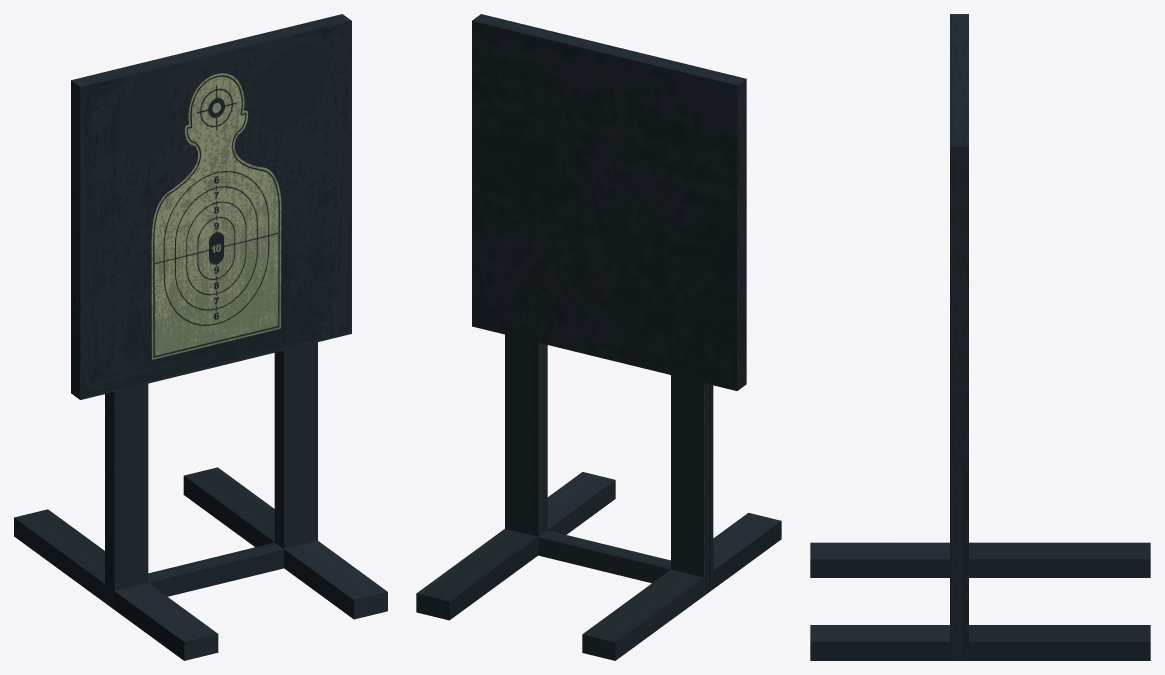
Rendered from hedef.fbx.
3 renders of one model, left to right at view 1: azimuth 30°, elevation 25°; view 2: azimuth 150°, elevation 25°; view 3: azimuth 270°, elevation 25°, orthographic. The views are drawn at different scales.
Visible parts, largest first — view 1: Cube; view 2: Cube; view 3: Cube.
Part boxes in pixels (x1,y1,x2,y2): Cube: (14,14,387,660); Cube: (416,14,781,660); Cube: (810,14,1150,660).
Size of the model in its own units: 873 by 1631 by 948.
1 material, 1 textured.
